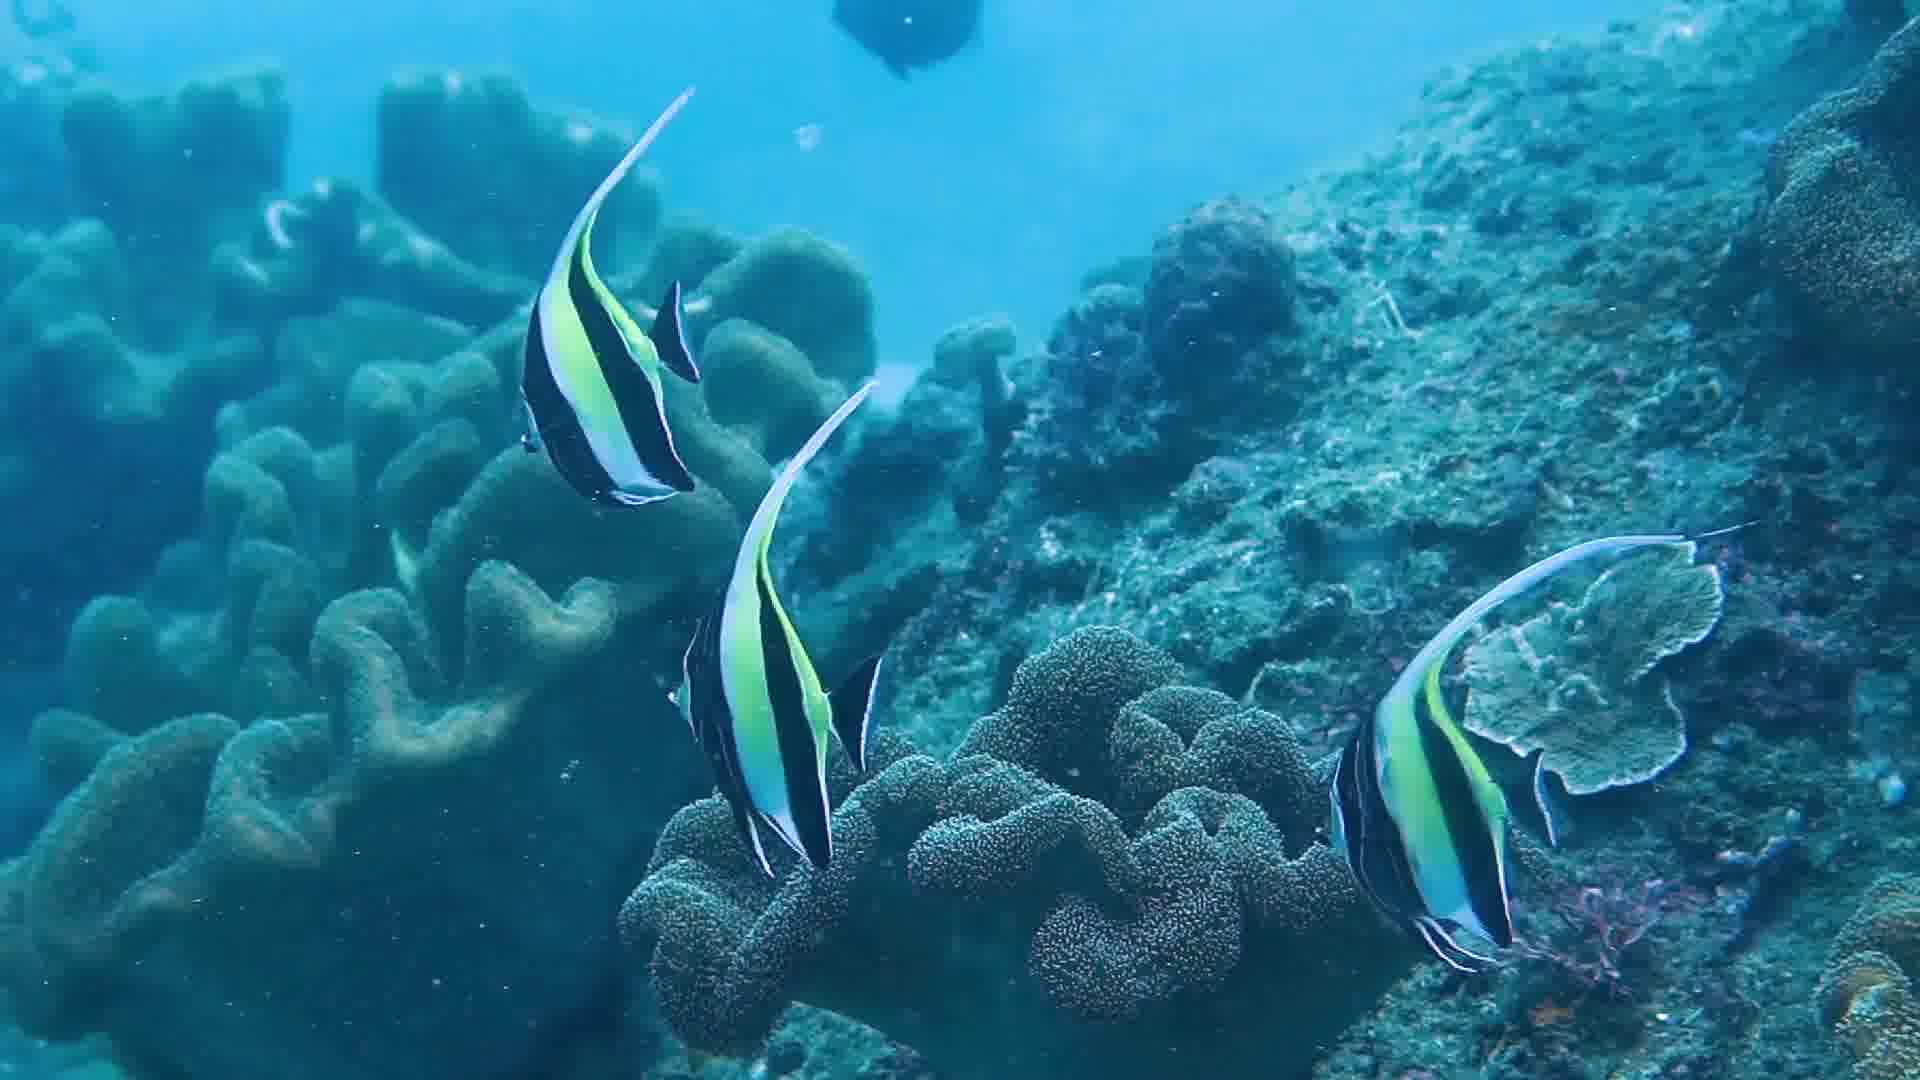Zanclus cornutus: (488, 223, 741, 539), (632, 542, 885, 858), (1296, 632, 1549, 948)
